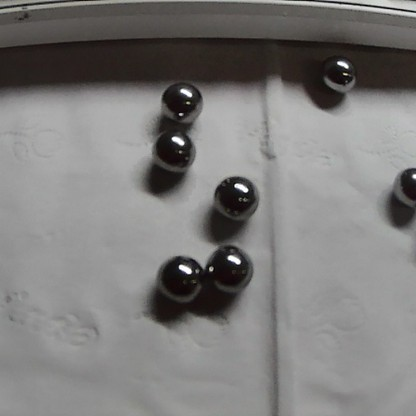ironball: (207, 165, 256, 223), (208, 245, 258, 293), (160, 76, 205, 126), (159, 253, 200, 299), (385, 158, 414, 220), (312, 57, 361, 93), (147, 131, 198, 163)
